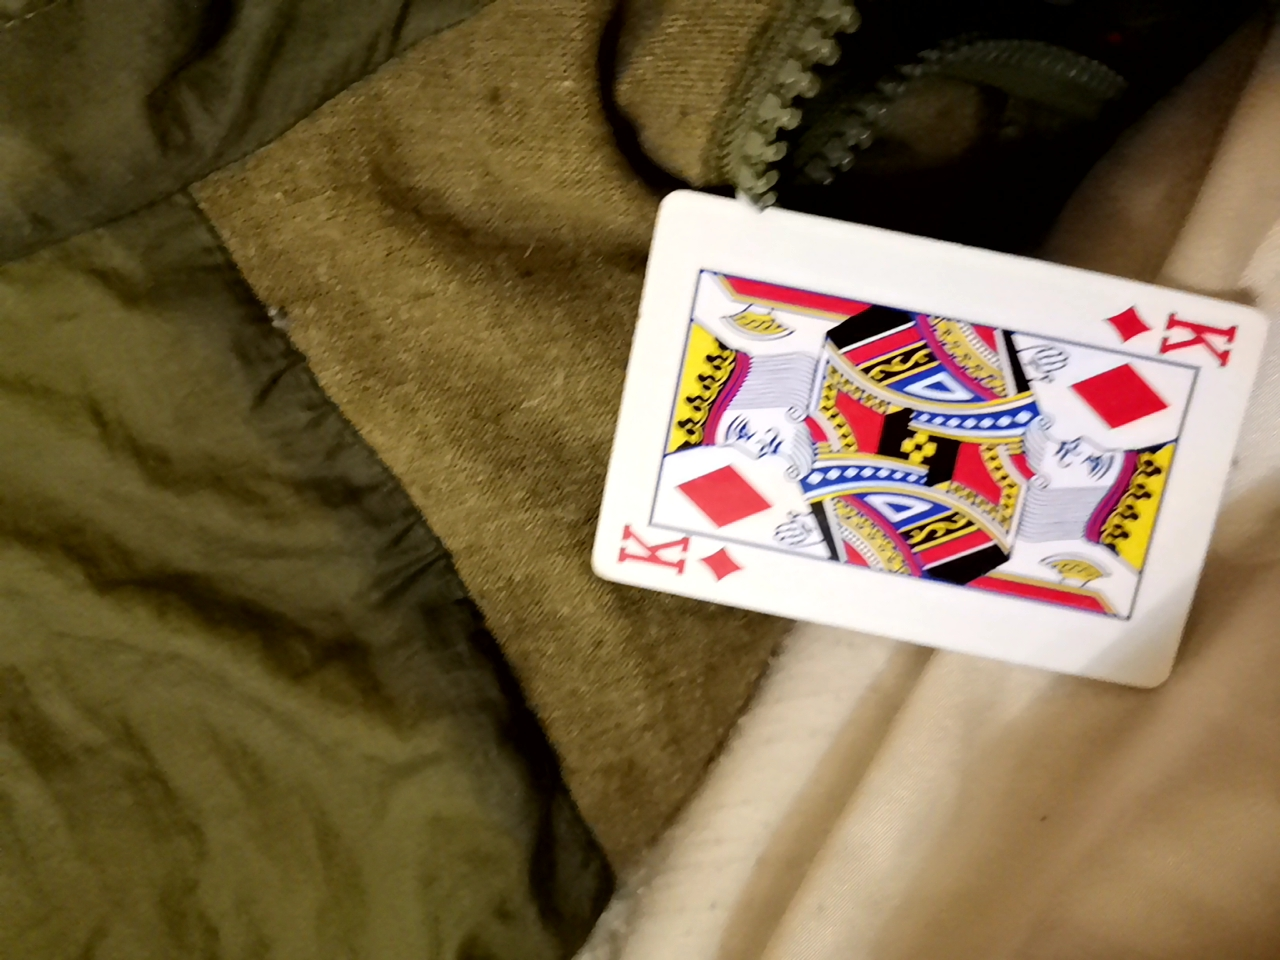fk k: (561, 212, 1222, 702)
